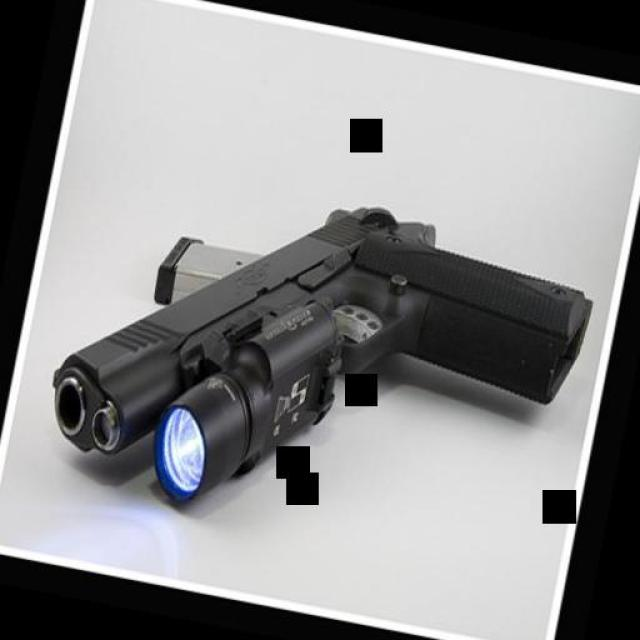gun: (29, 148, 606, 578)
